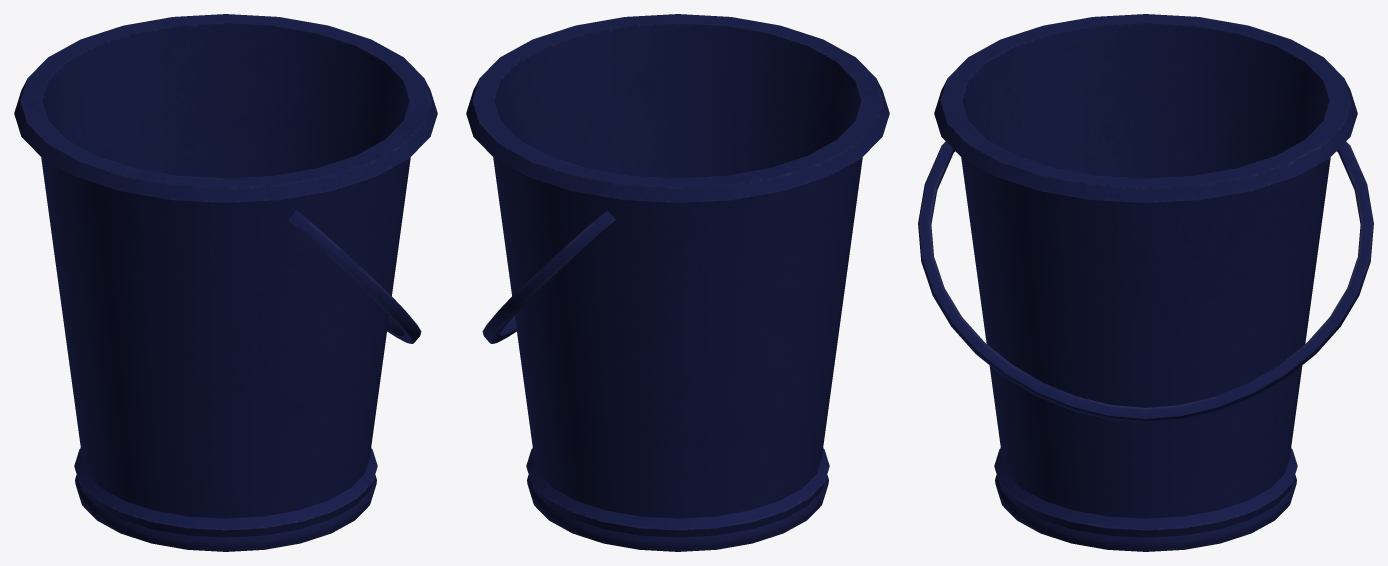
File: trashcan.glb
The picture shows the model from 3 angles, left to right: view 1: azimuth 30°, elevation 25°; view 2: azimuth 150°, elevation 25°; view 3: azimuth 270°, elevation 25°; orthographic projection.
Visible parts, largest first — view 1: trah_can.001; view 2: trah_can.001; view 3: trah_can.001.
Boxes of the visible parts, x1,y1,x2,y2 form: trah_can.001: (14, 14, 437, 551); trah_can.001: (466, 14, 889, 551); trah_can.001: (918, 14, 1373, 551).
Size of the model in its own units: 0.3403 by 0.344 by 0.366.
Materials: 1 (1 with a texture image).
